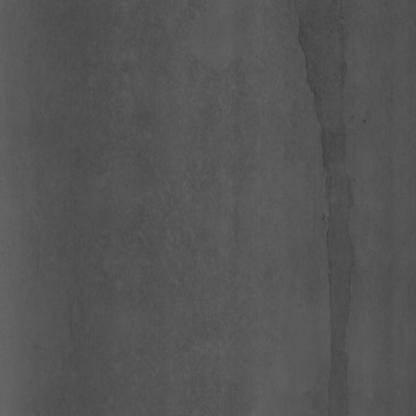water_spot: (298, 10, 361, 401)
